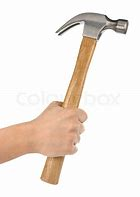hammer: (37, 10, 131, 186)
